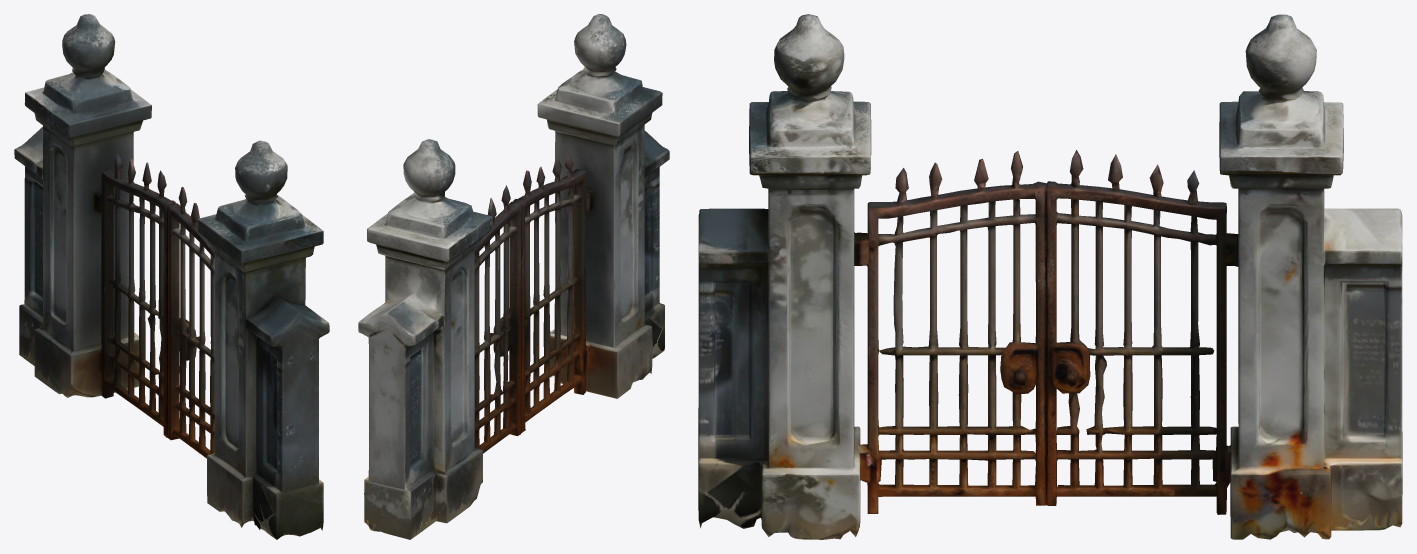
File: cementeryGateClosed.fbx
3 renders of one model, left to right at view 1: azimuth 30°, elevation 25°; view 2: azimuth 150°, elevation 25°; view 3: azimuth 270°, elevation 25°, orthographic. The views are drawn at different scales.
Visible parts, largest first — view 1: tripo_node_7ea267f0; view 2: tripo_node_7ea267f0; view 3: tripo_node_7ea267f0.
Part boxes in pixels (x1=…): tripo_node_7ea267f0: x1=14, y1=14, x2=329, y2=539; tripo_node_7ea267f0: x1=358, y1=14, x2=669, y2=539; tripo_node_7ea267f0: x1=698, y1=14, x2=1402, y2=539.
Bounding box in the file's own units: 0.1878 × 0.7856 × 0.9999.
1 material, 1 textured.
